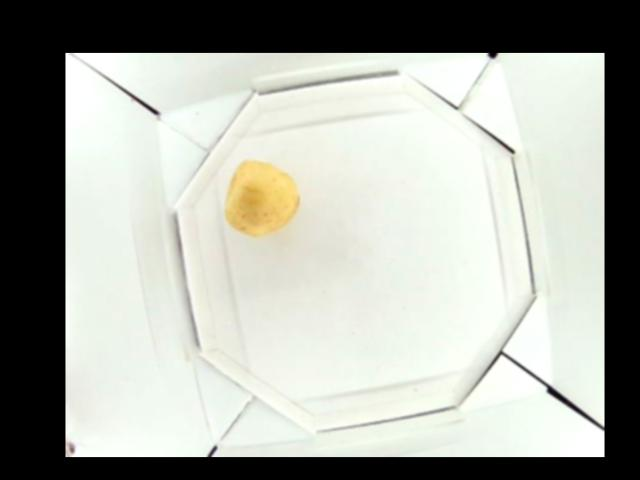Potato: (222, 163, 302, 233)
